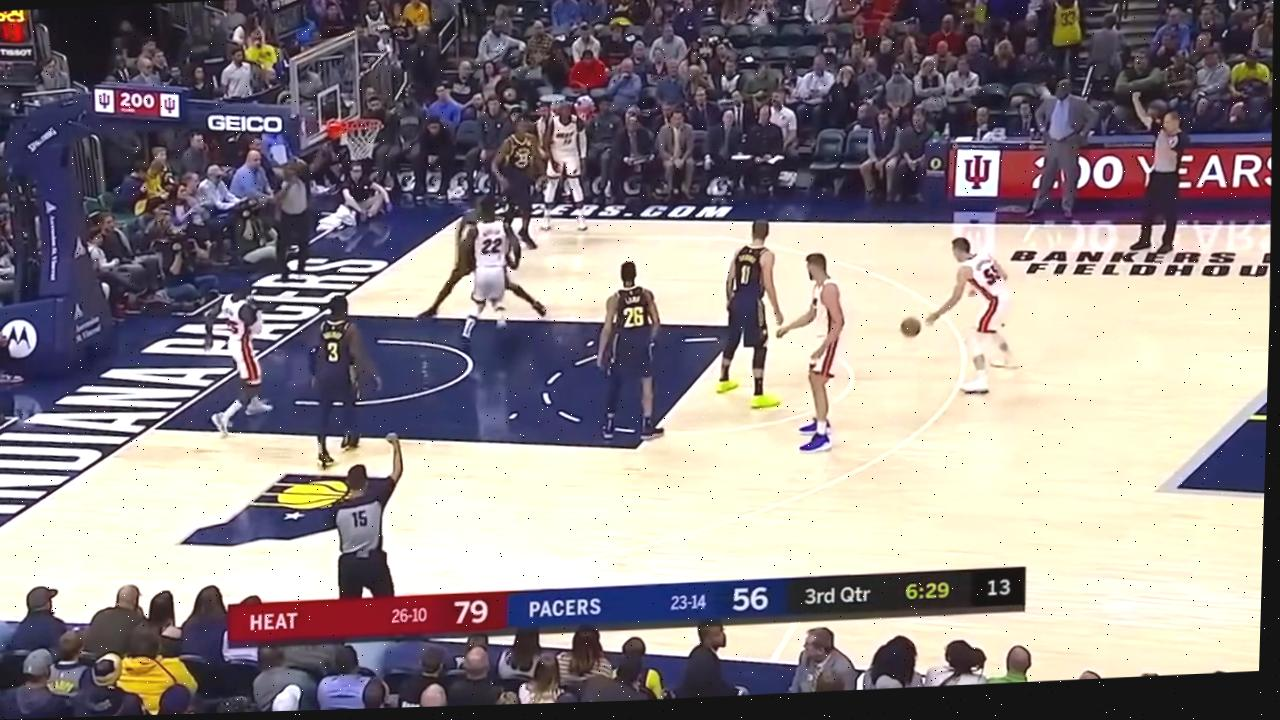foul: (416, 179, 556, 340)
